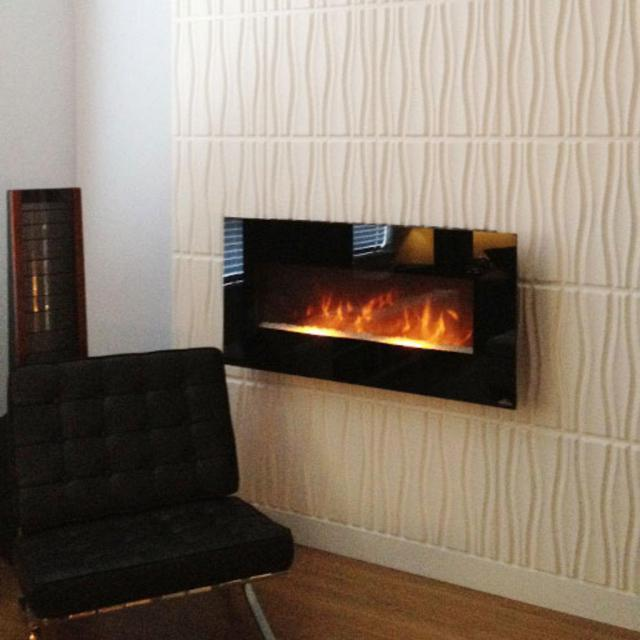Fire: (284, 266, 476, 356)
